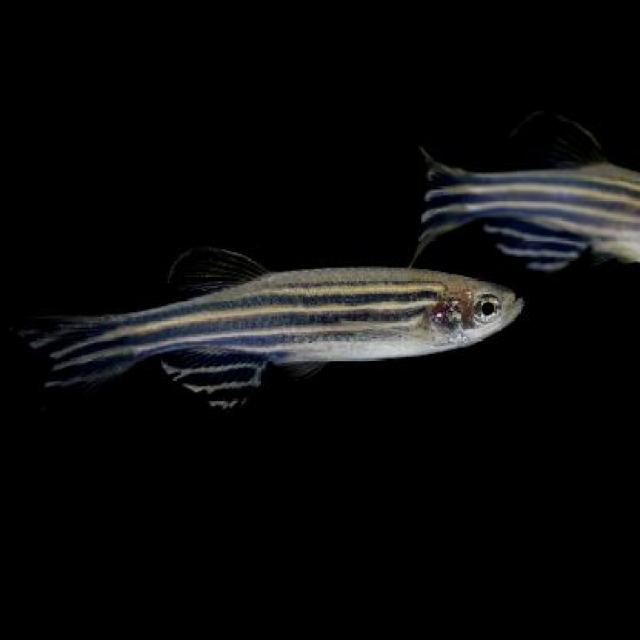ZebraFish: (4, 246, 522, 412)
